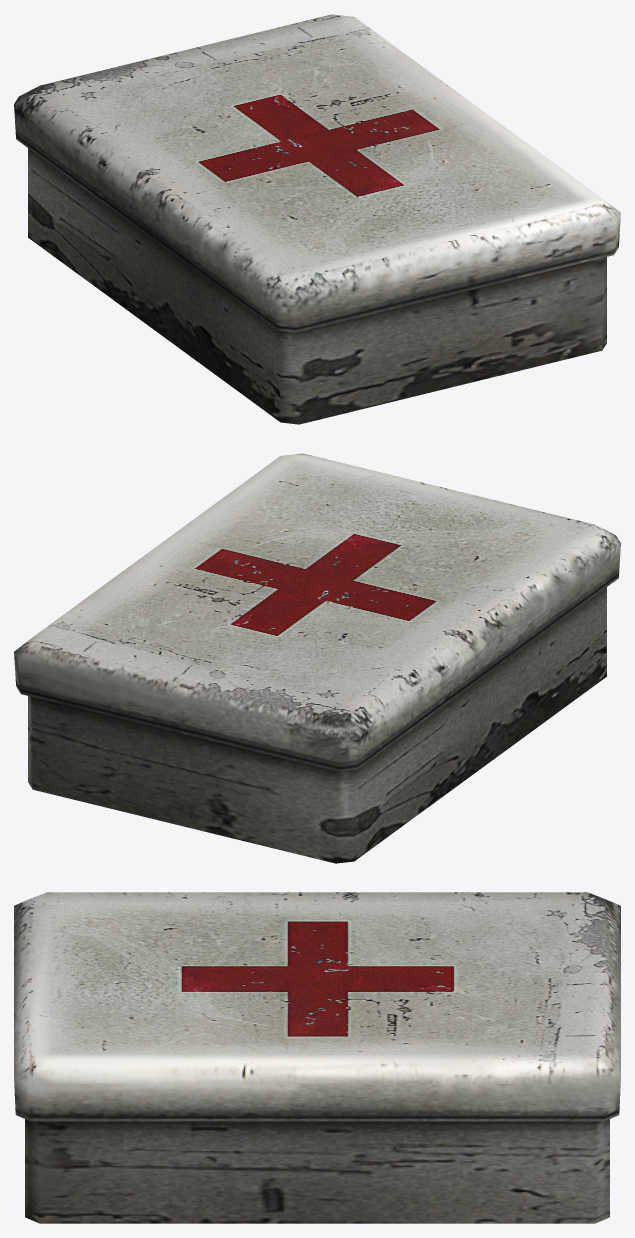
The model's file is small_health_2.fbx.
3 views of the same model, one above another, from view 1: azimuth 30°, elevation 25°; view 2: azimuth 150°, elevation 25°; view 3: azimuth 270°, elevation 25° (orthographic). The views are drawn at different scales.
Parts seen in each view (by area): view 1: small_health_2; view 2: small_health_2; view 3: small_health_2.
Boxes of the visible parts, left/top/right/bottom form: small_health_2: left=14, top=14, right=620, bottom=424; small_health_2: left=14, top=453, right=620, bottom=863; small_health_2: left=14, top=892, right=620, bottom=1223.
Bounding box in the file's own units: 12.68 × 5.07 × 17.65.
Materials: 1 (1 with a texture image).
